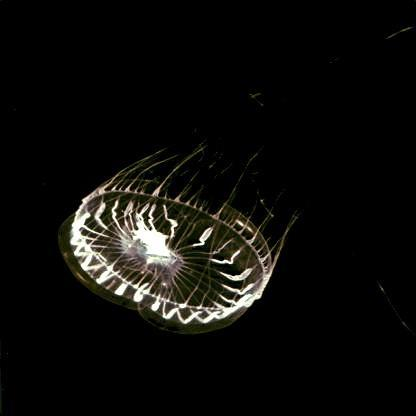FriedEggs: (58, 57, 368, 334)
